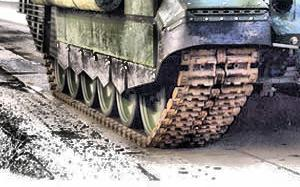tanks: (21, 1, 300, 149)
